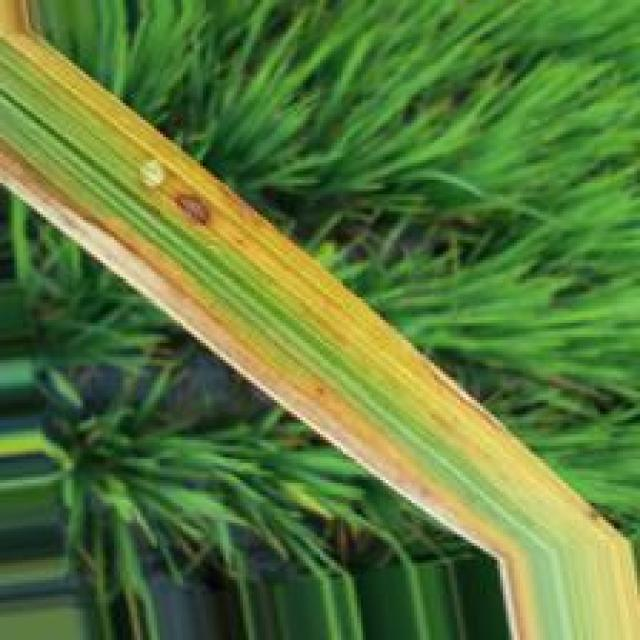Bacterial_Leaf_Blight: (5, 34, 638, 610), (3, 143, 540, 639)
